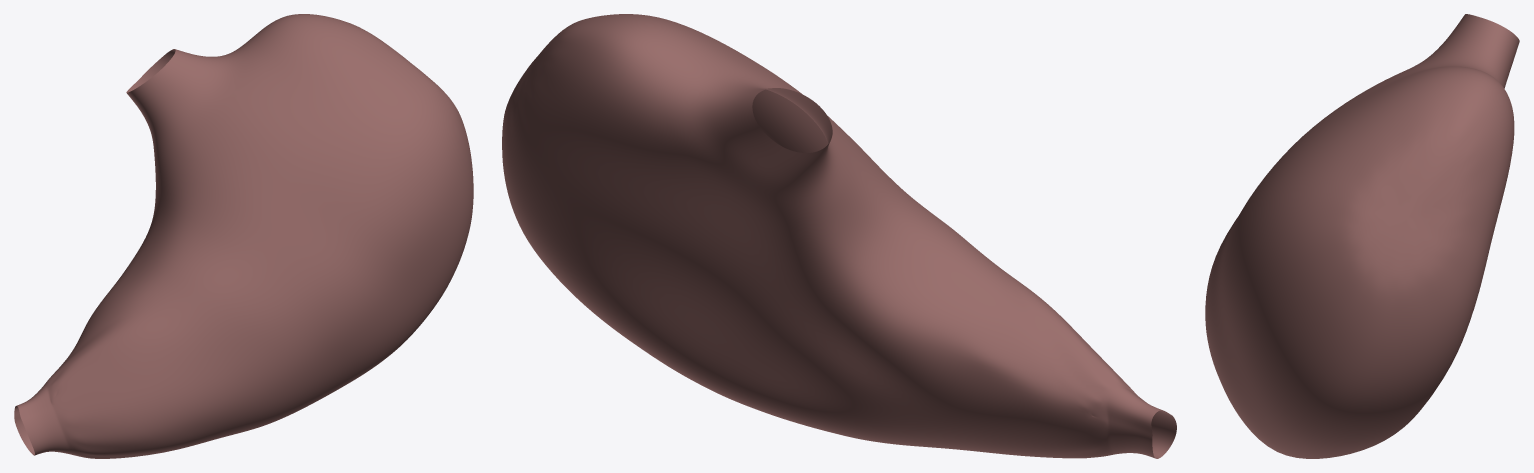
The model's file is stomach.glb.
3 views of the same model, side by side, from view 1: azimuth 30°, elevation 25°; view 2: azimuth 150°, elevation 25°; view 3: azimuth 270°, elevation 25° (orthographic). The views are drawn at different scales.
Visible parts, largest first — view 1: stomach; view 2: stomach; view 3: stomach.
Boxes of the visible parts, x1=… form: stomach: x1=14, y1=14, x2=473, y2=458; stomach: x1=502, y1=14, x2=1176, y2=458; stomach: x1=1205, y1=14, x2=1519, y2=458.
Bounding box in the file's own units: 0.8595 × 0.5647 × 0.3868.
